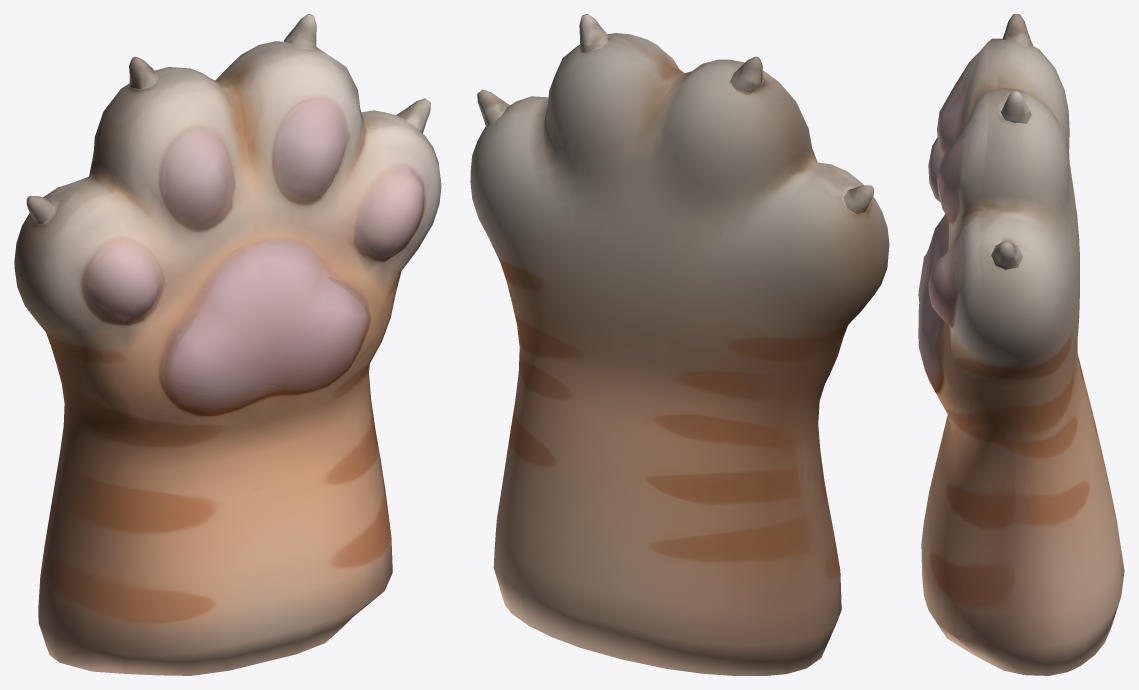
The model's file is leftcat.fbx.
3 views of the same model, side by side, from view 1: azimuth 30°, elevation 25°; view 2: azimuth 150°, elevation 25°; view 3: azimuth 270°, elevation 25° (orthographic). The views are drawn at different scales.
Visible parts, largest first — view 1: leftcat; view 2: leftcat; view 3: leftcat.
Boxes of the visible parts, x1,y1,x2,y2 form: leftcat: [14, 14, 441, 675]; leftcat: [470, 14, 889, 675]; leftcat: [918, 14, 1124, 675].
Size of the model in its own units: 35.67 by 107 by 76.73.
